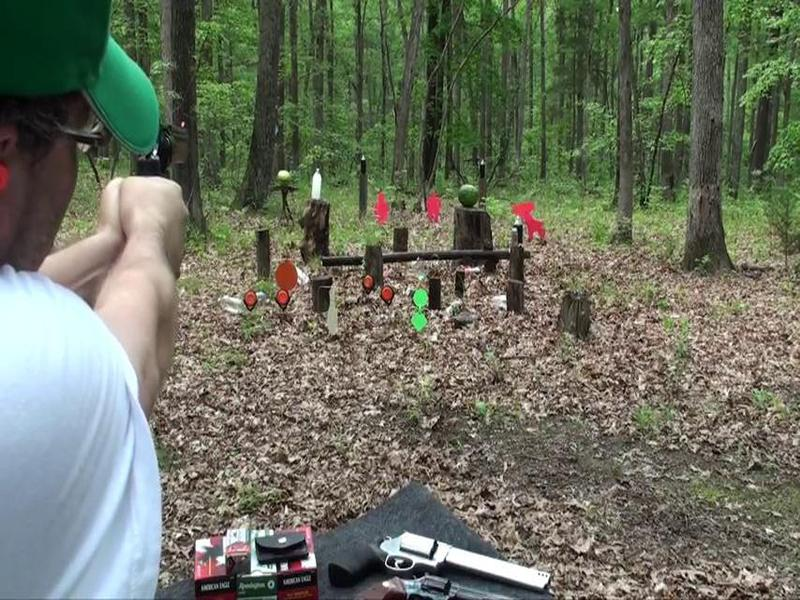Revolver: (119, 105, 199, 196)
